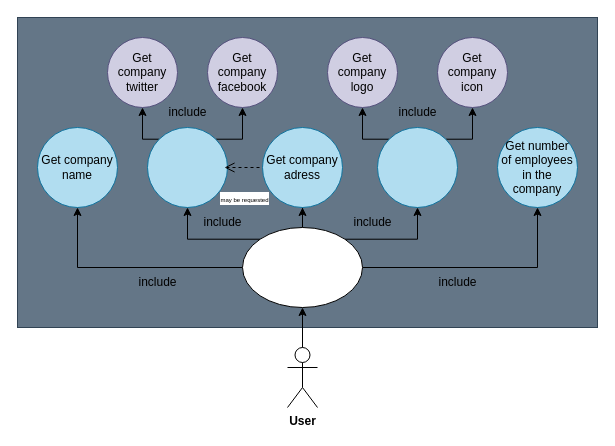
Image size: 615x446. Some labels were removed from this diagram. Here are the shapes that lost their labels. From the top down, the box of each, then its label:
(146, 126, 228, 208): Get company social media
(376, 126, 458, 208): Get company image
(242, 226, 362, 308): Get information about company by domain
